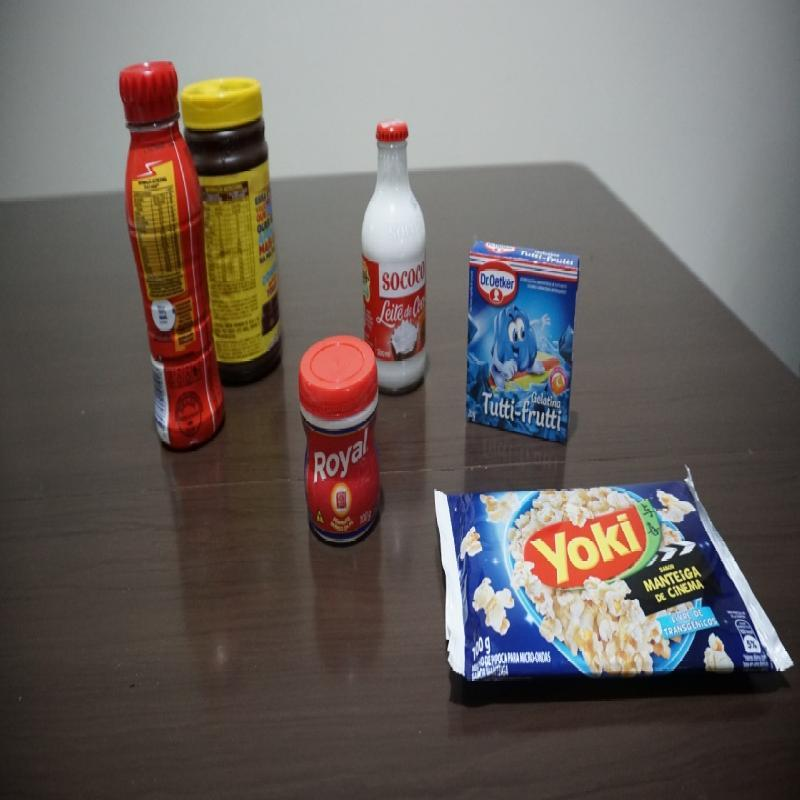Chocolate Milk: (117, 56, 228, 450)
Chocolate Powder: (180, 77, 283, 395)
Coconut Milk: (361, 119, 430, 401)
Gelatine: (464, 236, 583, 447)
Popcorn: (427, 463, 796, 693)
Yeast: (297, 333, 383, 551)
